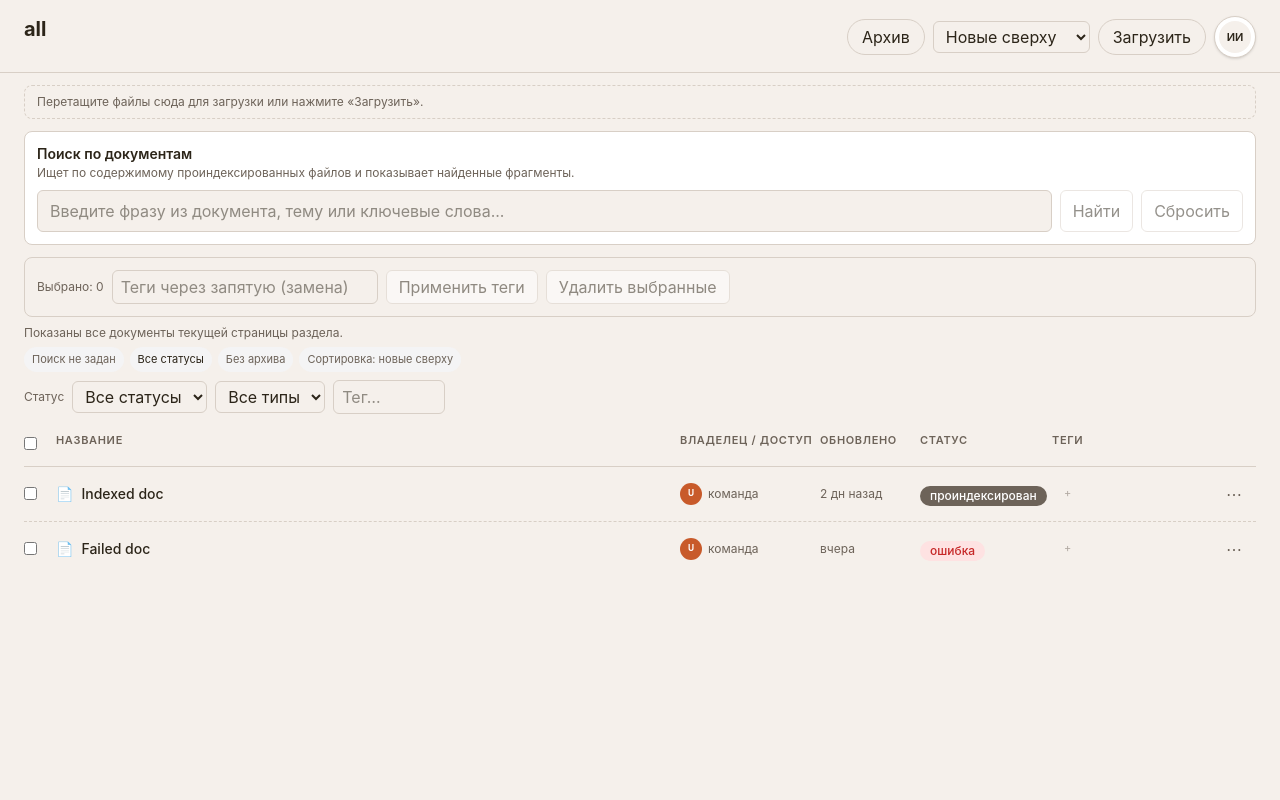
Test: switches status filter from ALL to specific status and back
expect the text "Indexed doc" is shown: met, box [82,484,164,504]
expect the text "Failed doc" is shown: met, box [82,538,150,558]
Select "FAILED" in the dropdown named "Фильтр по статусу": (140, 396) [72,380,207,412]
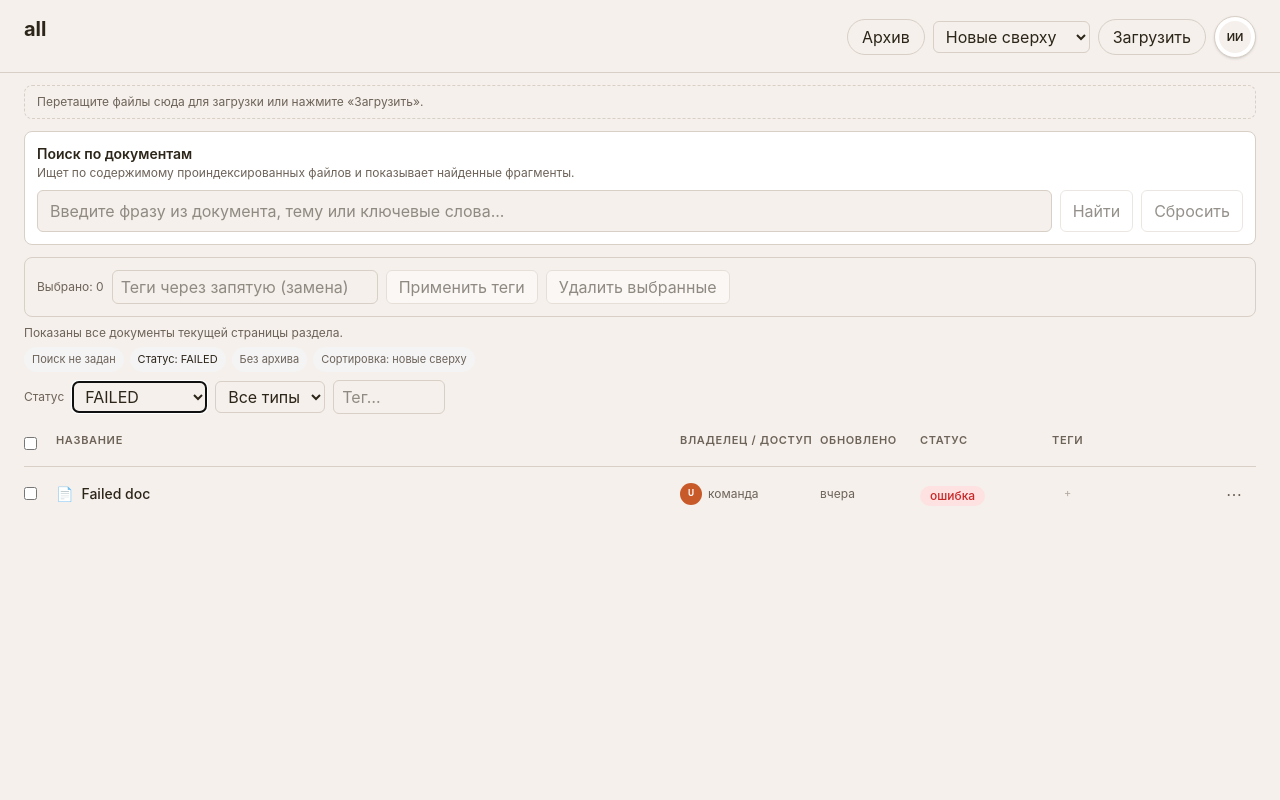
expect the text "Failed doc" is shown: met, box [82,484,150,504]
expect the text "Indexed doc" is gone: met
expect the text "Статус: FAILED" is shown: met, box [130,347,226,372]
Select "Все статусы" in the dropdown named "Фильтр по статусу": (140, 396) [72,380,207,412]
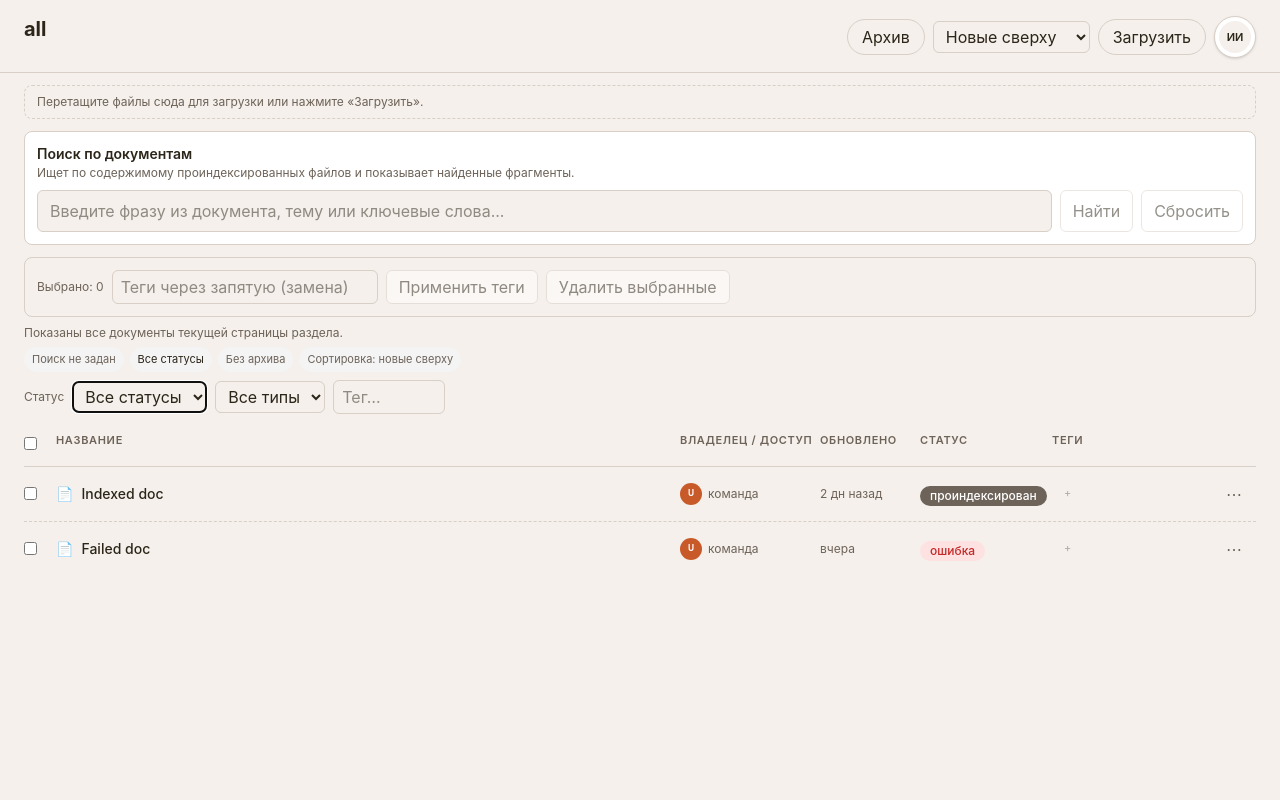
expect the text "Failed doc" is shown: met, box [82,538,150,558]
expect the text "Indexed doc" is shown: met, box [82,484,164,504]
